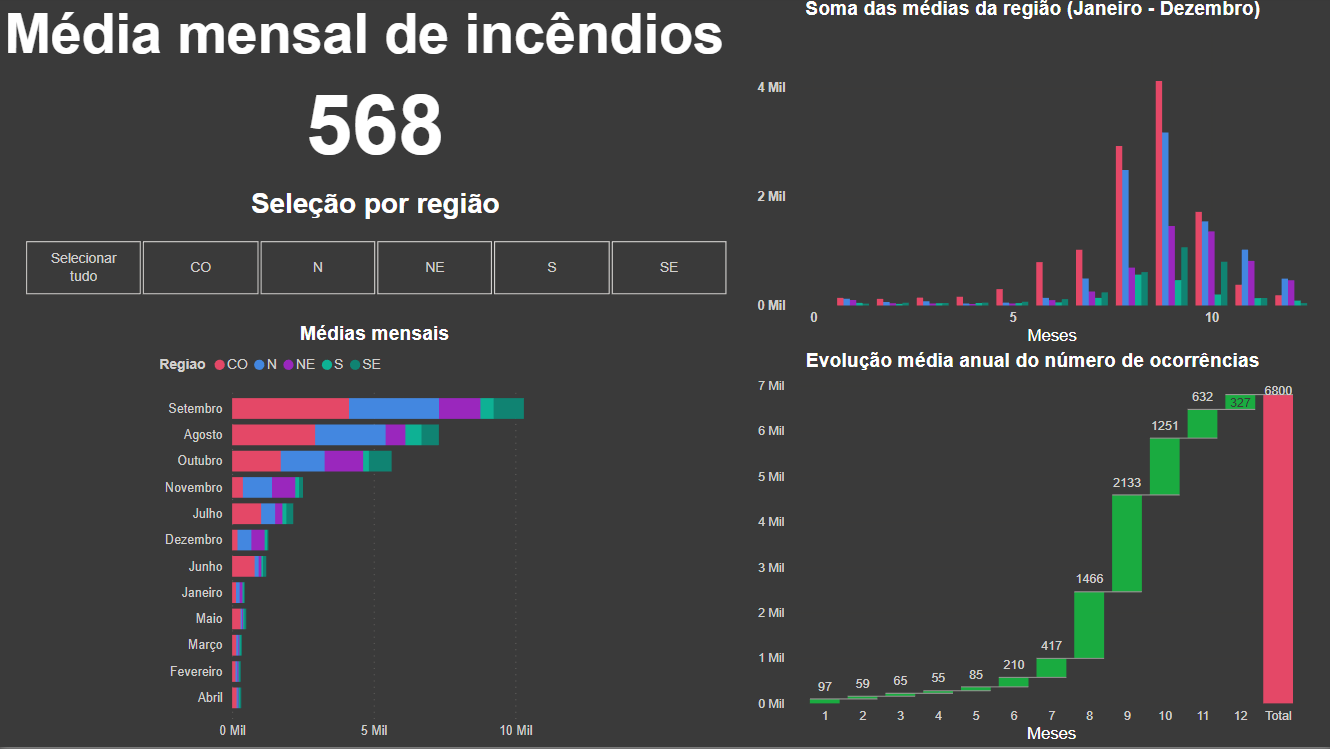

Layout of this report page (visuals, bound fields, positions):
{"tool":"powerbi","page":{"name":"mediaPorRegiao","canvas":[1280,720],"ordinal":1},"visuals":[{"type":"clusteredColumnChart","title":"Soma das médias da região (Janeiro - Dezembro)","fields":{"Category":["dados_corretos.Mes_int"],"Y":["Avg(dados_corretos.Numero)"],"Series":["dados_corretos.Regiao"]},"box":[722.1,0,538.7,338],"z":0},{"type":"textbox","box":[0,0,721.7,87.5],"z":1000},{"type":"slicer","title":"Seleção por região","fields":{"Values":["dados_corretos.Regiao"]},"box":[0,183.4,722.1,108.5],"z":2000},{"type":"card","fields":{"Values":["Avg(dados_corretos.Numero)"]},"box":[262.6,62.2,196.5,104.1],"z":3000},{"type":"waterfallChart","title":"Evolução média anual do número de ocorrências","fields":{"Category":["dados_corretos.Mes_int"],"Y":["Avg(dados_corretos.Numero)"]},"box":[722.1,338,538.7,382.2],"z":4000},{"type":"barChart","title":"Médias mensais","fields":{"Category":["dados_corretos.Mes"],"Series":["dados_corretos.Regiao"],"Y":["Avg(dados_corretos.Numero)"]},"box":[148.8,312.1,423.5,408.1],"z":5000}]}

Visuals, with their boxes in screenshot pixels (x1, y1, x2, y2), scaled from the page's 1280x720 canvas onto the 1330x749 screenshot:
"Soma das médias da região (Janeiro - Dezembro)" clusteredColumnChart: (750, 0, 1310, 352)
textbox: (0, 0, 750, 91)
"Seleção por região" slicer: (0, 191, 750, 304)
card - Avg(dados_corretos.Numero): (273, 65, 477, 173)
"Evolução média anual do número de ocorrências" waterfallChart: (750, 352, 1310, 748)
"Médias mensais" barChart: (155, 325, 595, 748)
